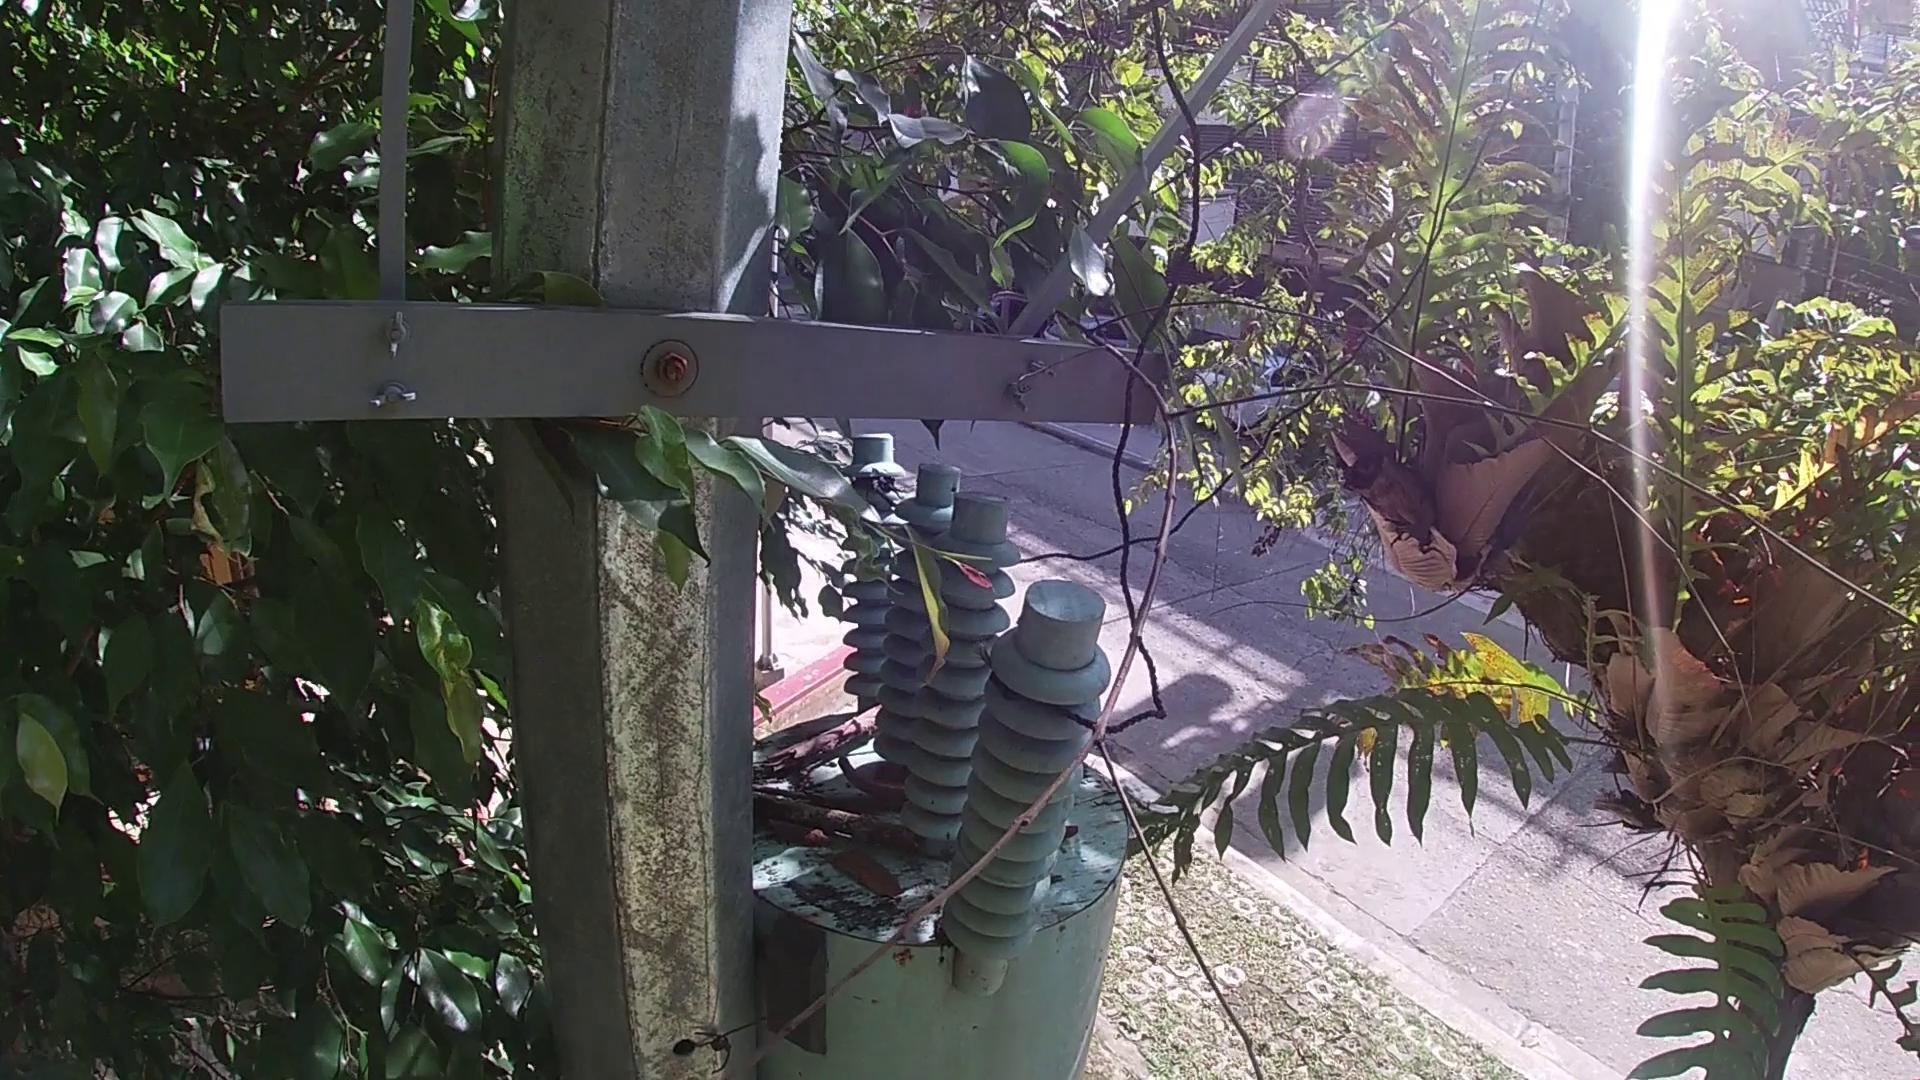leaf: (814, 851, 899, 901), (764, 825, 829, 855)
mahogany fruit: (833, 754, 887, 790), (1068, 819, 1084, 841)
tree branch: (708, 219, 1911, 1068), (740, 785, 942, 845), (749, 705, 895, 767), (745, 775, 901, 818)
